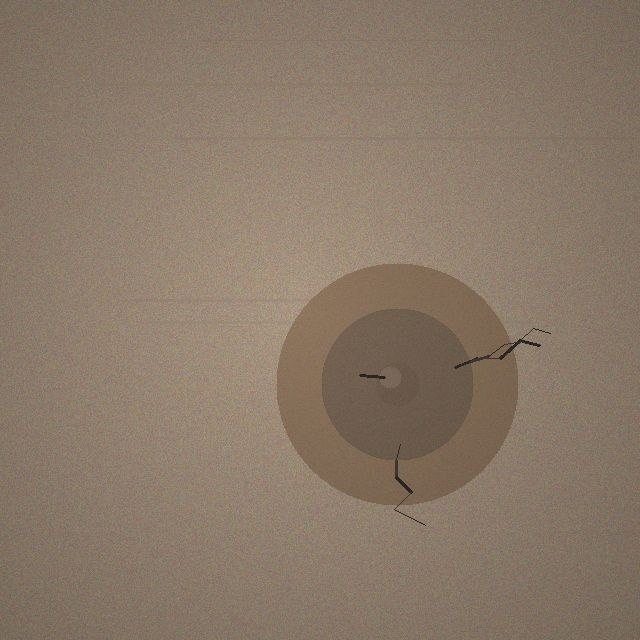crack: (276, 263, 518, 505)
